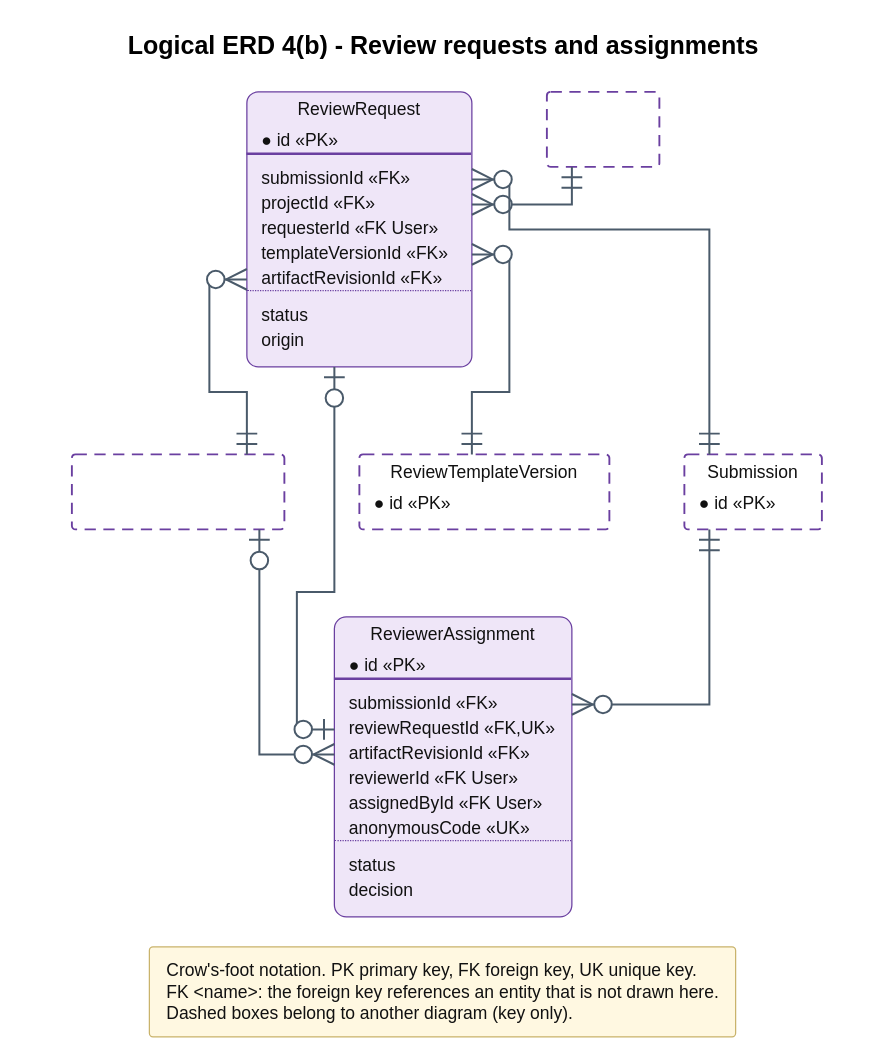
The diagram is 885 pixels wide and 1059 high, and some of its shapes have lost their labels. Here are the shapes that lost their labels. From the top down, the centre of each, then its label:
At [602,128]: "Project ● id «PK»".
At [177,491]: "SubmissionRevision ● id «PK»".
